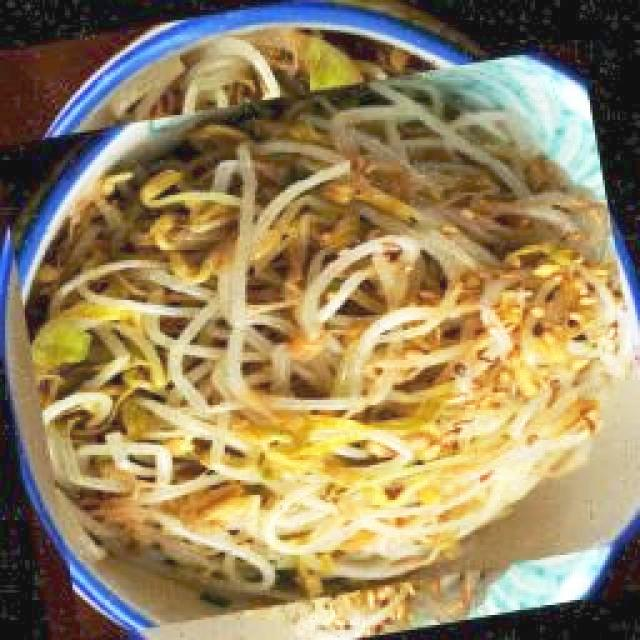mung_bean_sprouts: (21, 134, 625, 581)
